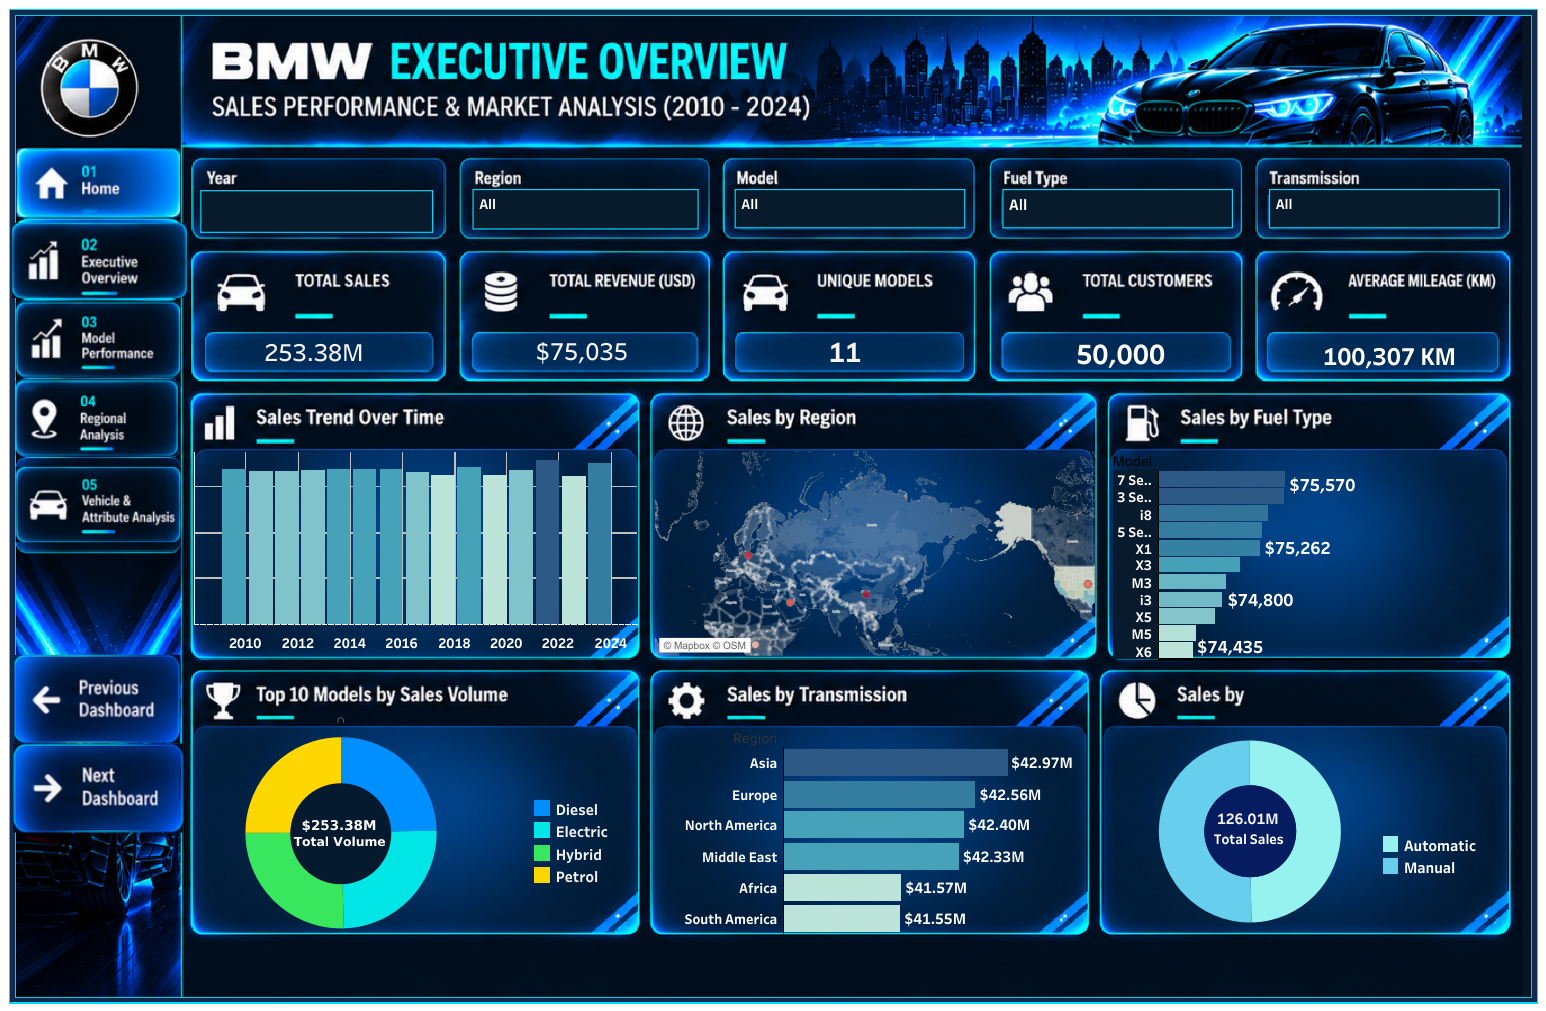

The dashboard page shown, as its layout file describes it:
{"tool":"tableau","page":{"name":"Dashboard 1","canvas":[1375,900],"ordinal":0},"visuals":[{"type":"image","param":"Image/BMW Executive Overview Dashboard.png","box":[9,9,1357,882]},{"type":"worksheet","title":"KPI - Years Covered","mark":"Automatic","box":[882,25,97,67]},{"type":"dashboard-object","box":[15,132,146,62]},{"type":"filter","title":"Top 5 Regions by sales Volume","param":"[federated.18z69gv0p5a0b11arvxvz0n9zdok].[none:Region:nk]","box":[420,168,201,36]},{"type":"filter","title":"Average Price by Model","param":"[federated.18z69gv0p5a0b11arvxvz0n9zdok].[none:Model:nk]","box":[653,168,205,35]},{"type":"filter","title":"Sales Volume by Fuel Type","param":"[federated.18z69gv0p5a0b11arvxvz0n9zdok].[none:Fuel_Type:nk]","box":[891,168,205,35]},{"type":"filter","title":"Average Price by Model","param":"[federated.18z69gv0p5a0b11arvxvz0n9zdok].[none:Transmission:nk]","box":[1128,168,205,35]},{"type":"filter","title":"Sales Volume by year","param":"[federated.18z69gv0p5a0b11arvxvz0n9zdok].[none:Year:qk]","box":[178,169,207,38]},{"type":"dashboard-object","box":[11,188,155,87]},{"type":"dashboard-object","box":[14,266,147,71]},{"type":"worksheet","title":"KPI - Total Models","mark":"Automatic","box":[722,288,111,49]},{"type":"worksheet","title":"KPI - Avg Mileage","mark":"Automatic","box":[1137,293,212,49]},{"type":"worksheet","title":"Total Customer","mark":"Automatic","box":[932,297,134,49]},{"type":"worksheet","title":"KPI- Total Sales Volume","mark":"Text","rows":["Sales_Volume"],"box":[188,304,190,129]},{"type":"worksheet","title":"KPI - Average Price","mark":"Text","rows":["Price_USD"],"box":[428,304,176,35]},{"type":"dashboard-object","box":[14,336,145,72]},{"type":"worksheet","title":"Average Price by Model","mark":"Automatic","rows":["Model"],"cols":["Price_USD"],"box":[989,398,352,188]},{"type":"worksheet","title":"Sales Volume by Region (Map)","mark":"Multipolygon","box":[582,401,391,182]},{"type":"worksheet","title":"Sales Volume by year","mark":"Bar","rows":["Sales_Volume"],"cols":["Year"],"box":[172,402,394,184]},{"type":"dashboard-object","box":[14,404,148,90]},{"type":"dashboard-object","box":[13,582,148,80]},{"type":"worksheet","title":"Sales Volume by Fuel Type","mark":"Pie","cols":["Calculation_3610198107037265924","Calculation_3610198107037265924"],"box":[159,632,288,217]},{"type":"worksheet","title":"Top 5 Regions by sales Volume","mark":"Automatic","rows":["Region"],"cols":["Sales_Volume"],"box":[580,644,386,186]},{"type":"worksheet","title":"Sales Volume by Transmission","mark":"Pie","cols":["Calculation_3610198107011338243","Calculation_3610198107011051522"],"box":[984,647,254,184]},{"type":"legend","title":"Sales Volume by Fuel Type","param":"[federated.18z69gv0p5a0b11arvxvz0n9zdok].[none:Fuel_Type:nk]","box":[472,708,116,98]},{"type":"legend","title":"Sales Volume by Transmission","param":"[federated.18z69gv0p5a0b11arvxvz0n9zdok].[none:Transmission:nk]","box":[1226,740,120,72]}]}

Visuals, with their boxes in screenshot pixels (x1, y1, x2, y2), scaled from the page's 1375x900 canvas onto the 1546x1011 screenshot:
image: x1=10 y1=10 x2=1536 y2=1001
"KPI - Years Covered" worksheet: x1=992 y1=28 x2=1101 y2=103
dashboard-object: x1=17 y1=148 x2=181 y2=218
"Top 5 Regions by sales Volume" filter: x1=472 y1=189 x2=698 y2=229
"Average Price by Model" filter: x1=734 y1=189 x2=965 y2=228
"Sales Volume by Fuel Type" filter: x1=1002 y1=189 x2=1232 y2=228
"Average Price by Model" filter: x1=1268 y1=189 x2=1499 y2=228
"Sales Volume by year" filter: x1=200 y1=190 x2=433 y2=233
dashboard-object: x1=12 y1=211 x2=187 y2=309
dashboard-object: x1=16 y1=299 x2=181 y2=379
"KPI - Total Models" worksheet: x1=812 y1=324 x2=937 y2=379
"KPI - Avg Mileage" worksheet: x1=1278 y1=329 x2=1517 y2=384
"Total Customer" worksheet: x1=1048 y1=334 x2=1199 y2=389
"KPI- Total Sales Volume" worksheet (Text marks): x1=211 y1=341 x2=425 y2=486
"KPI - Average Price" worksheet (Text marks): x1=481 y1=341 x2=679 y2=381
dashboard-object: x1=16 y1=377 x2=179 y2=458
"Average Price by Model" worksheet: x1=1112 y1=447 x2=1508 y2=658
"Sales Volume by Region (Map)" worksheet (Multipolygon marks): x1=654 y1=450 x2=1094 y2=655
"Sales Volume by year" worksheet (Bar marks): x1=193 y1=452 x2=636 y2=658
dashboard-object: x1=16 y1=454 x2=182 y2=555
dashboard-object: x1=15 y1=654 x2=181 y2=744
"Sales Volume by Fuel Type" worksheet (Pie marks): x1=179 y1=710 x2=503 y2=954
"Top 5 Regions by sales Volume" worksheet: x1=652 y1=723 x2=1086 y2=932
"Sales Volume by Transmission" worksheet (Pie marks): x1=1106 y1=727 x2=1392 y2=933
"Sales Volume by Fuel Type" legend: x1=531 y1=795 x2=661 y2=905
"Sales Volume by Transmission" legend: x1=1378 y1=831 x2=1513 y2=912
